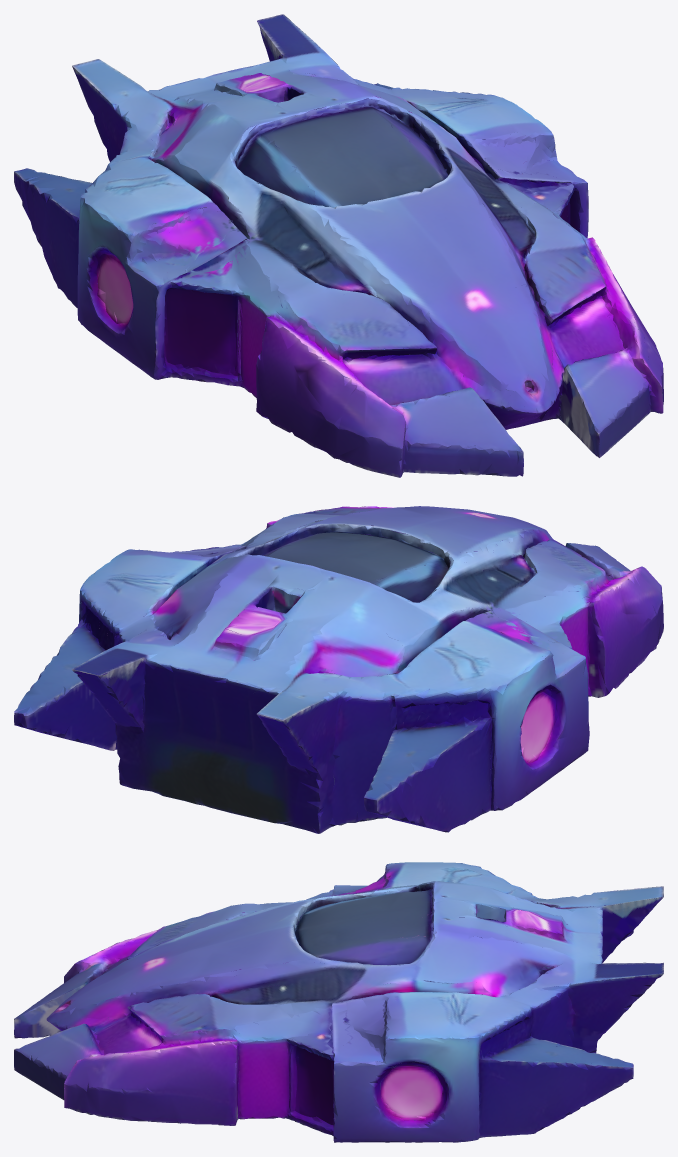
The model's file is f1_armor2.glb.
3 views of the same model, one above another, from view 1: azimuth 30°, elevation 25°; view 2: azimuth 150°, elevation 25°; view 3: azimuth 270°, elevation 25° (orthographic). The views are drawn at different scales.
Visible parts, largest first — view 1: Armor_F1.001; view 2: Armor_F1.001; view 3: Armor_F1.001.
Part boxes in pixels (x1=…): Armor_F1.001: x1=14, y1=14, x2=663, y2=477; Armor_F1.001: x1=14, y1=506, x2=663, y2=833; Armor_F1.001: x1=14, y1=862, x2=663, y2=1142.
Bounding box in the file's own units: 0.7847 × 0.3045 × 1.2.
1 material, 1 textured.
